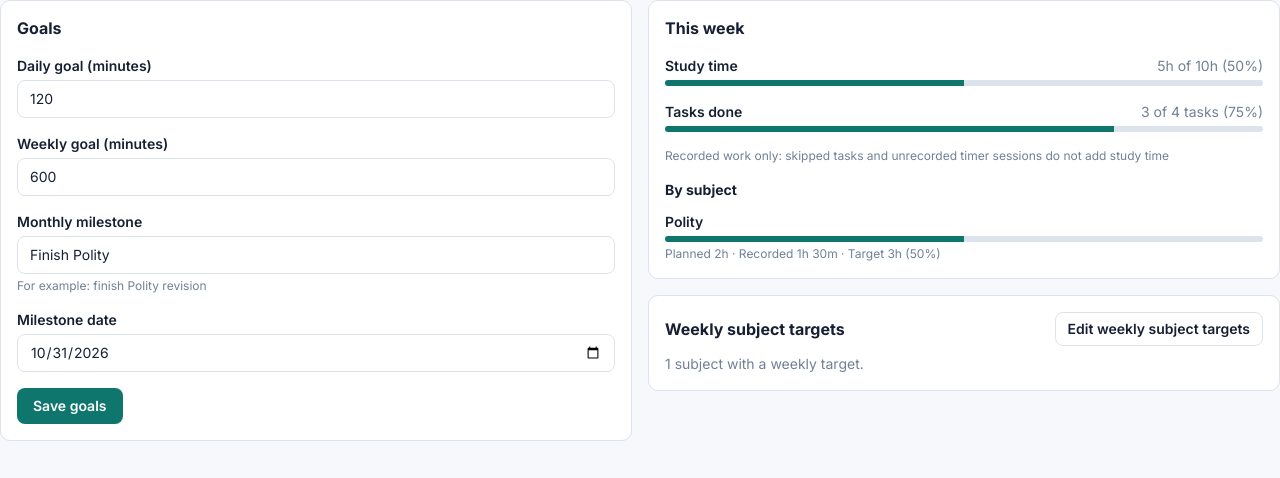
Test: GoalsView › rejects non-numeric or out-of-range minutes
Replace the text in the number field labelled "Weekly goal (minutes)" with "99999" at point(316, 177), box top-left (17, 158), bottom-right (615, 196)
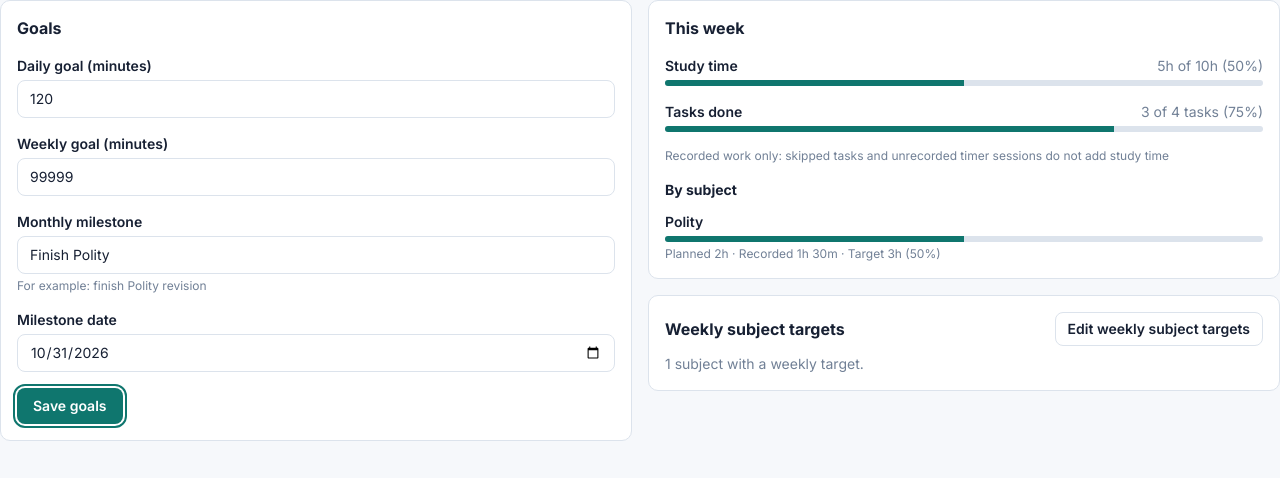
Click the button "Save goals" at point(70, 406), box top-left (17, 388), bottom-right (122, 424)
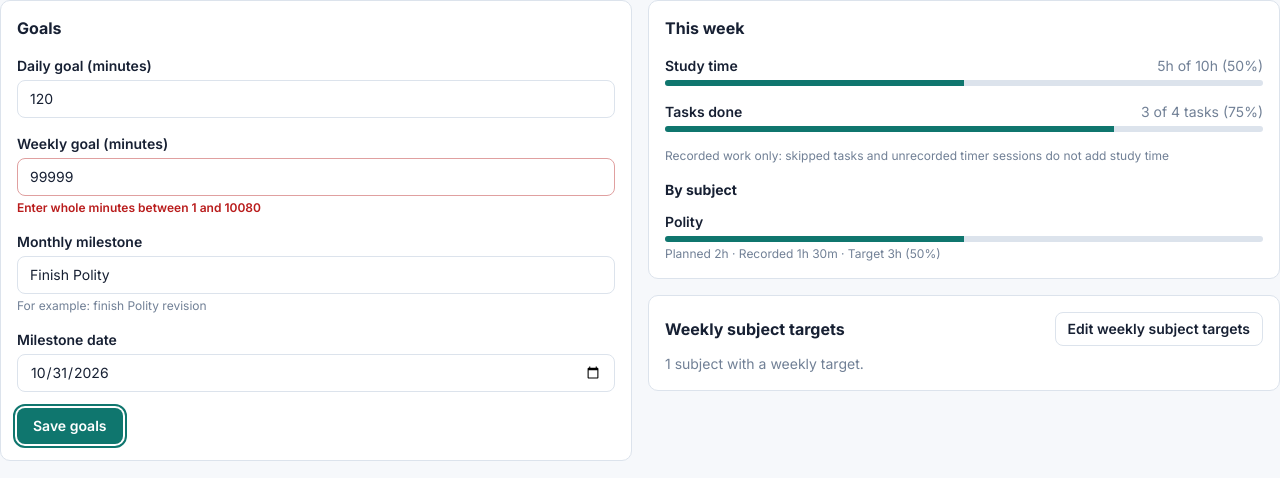
Expected: the text "Enter whole minutes between 1 and 10080" is shown, top-left (17, 200), bottom-right (261, 215)
